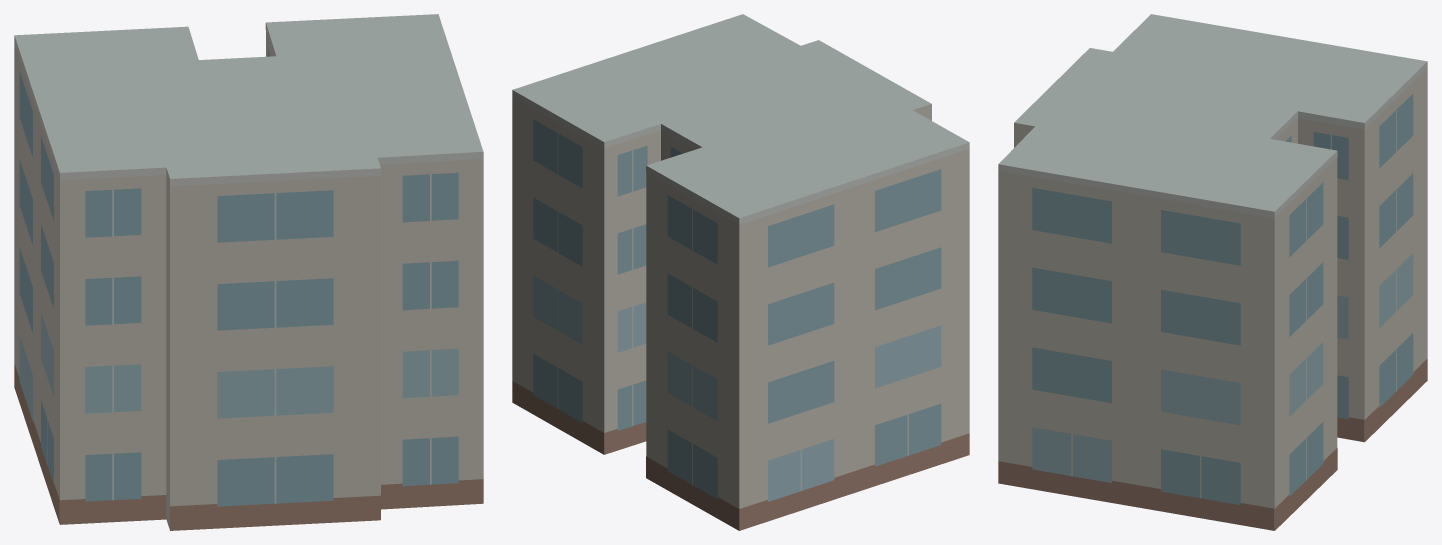
File: survey-upis-32520806.glb
3 views of the same model, side by side, from view 1: azimuth 30°, elevation 25°; view 2: azimuth 150°, elevation 25°; view 3: azimuth 270°, elevation 25° (orthographic). The views are drawn at different scales.
Visible parts, largest first — view 1: survey-upis-32520806.tmp; view 2: survey-upis-32520806.tmp; view 3: survey-upis-32520806.tmp.
Boxes of the visible parts, box(x1,y1,x2,y2) form: survey-upis-32520806.tmp: box(14, 14, 483, 530); survey-upis-32520806.tmp: box(512, 14, 969, 530); survey-upis-32520806.tmp: box(998, 14, 1427, 530).
Bounding box in the file's own units: 15.69 × 11.8 × 14.4.
